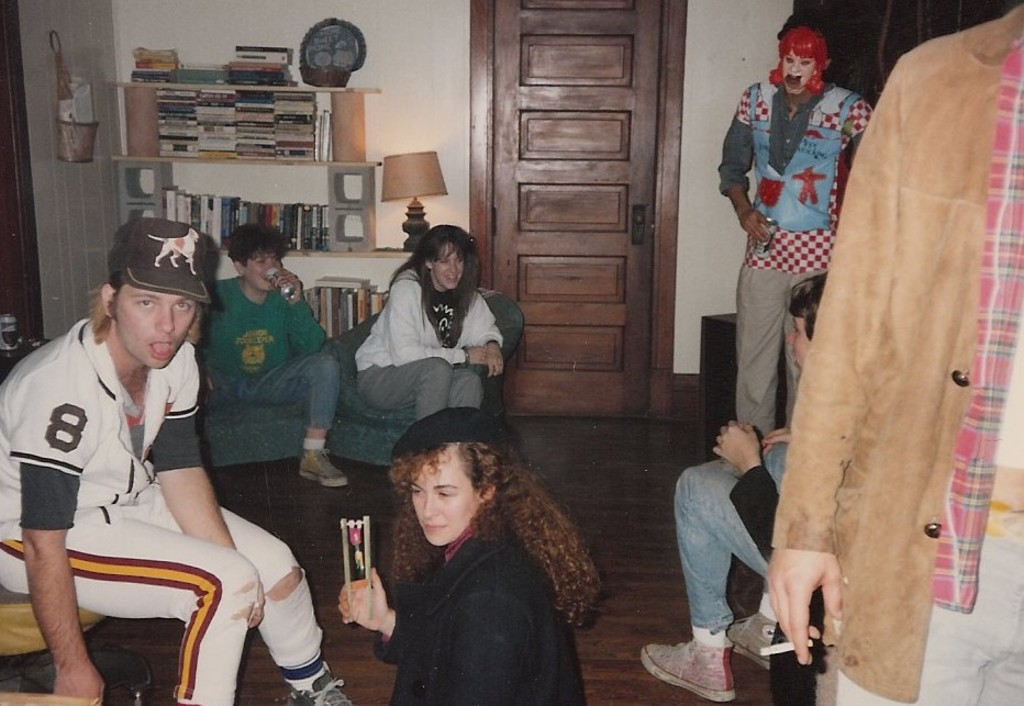Footwear: (642, 636, 732, 699), (726, 610, 778, 672), (286, 666, 354, 705), (297, 444, 345, 486)
